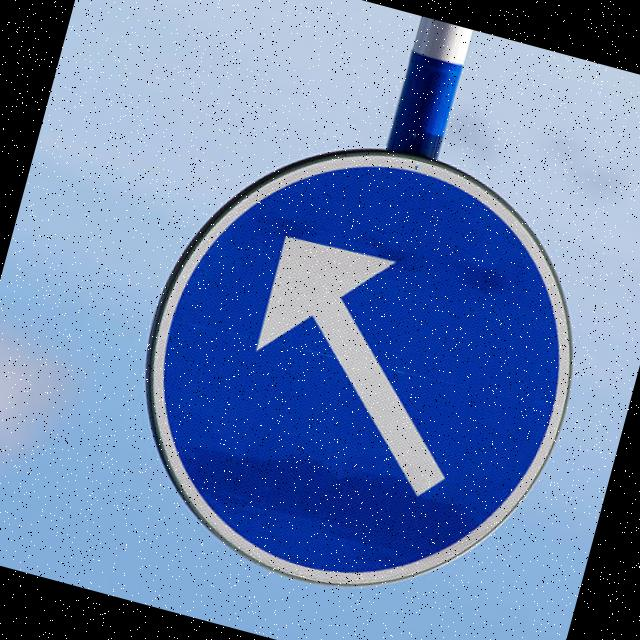compulsory_keep_right: (69, 73, 640, 640)
